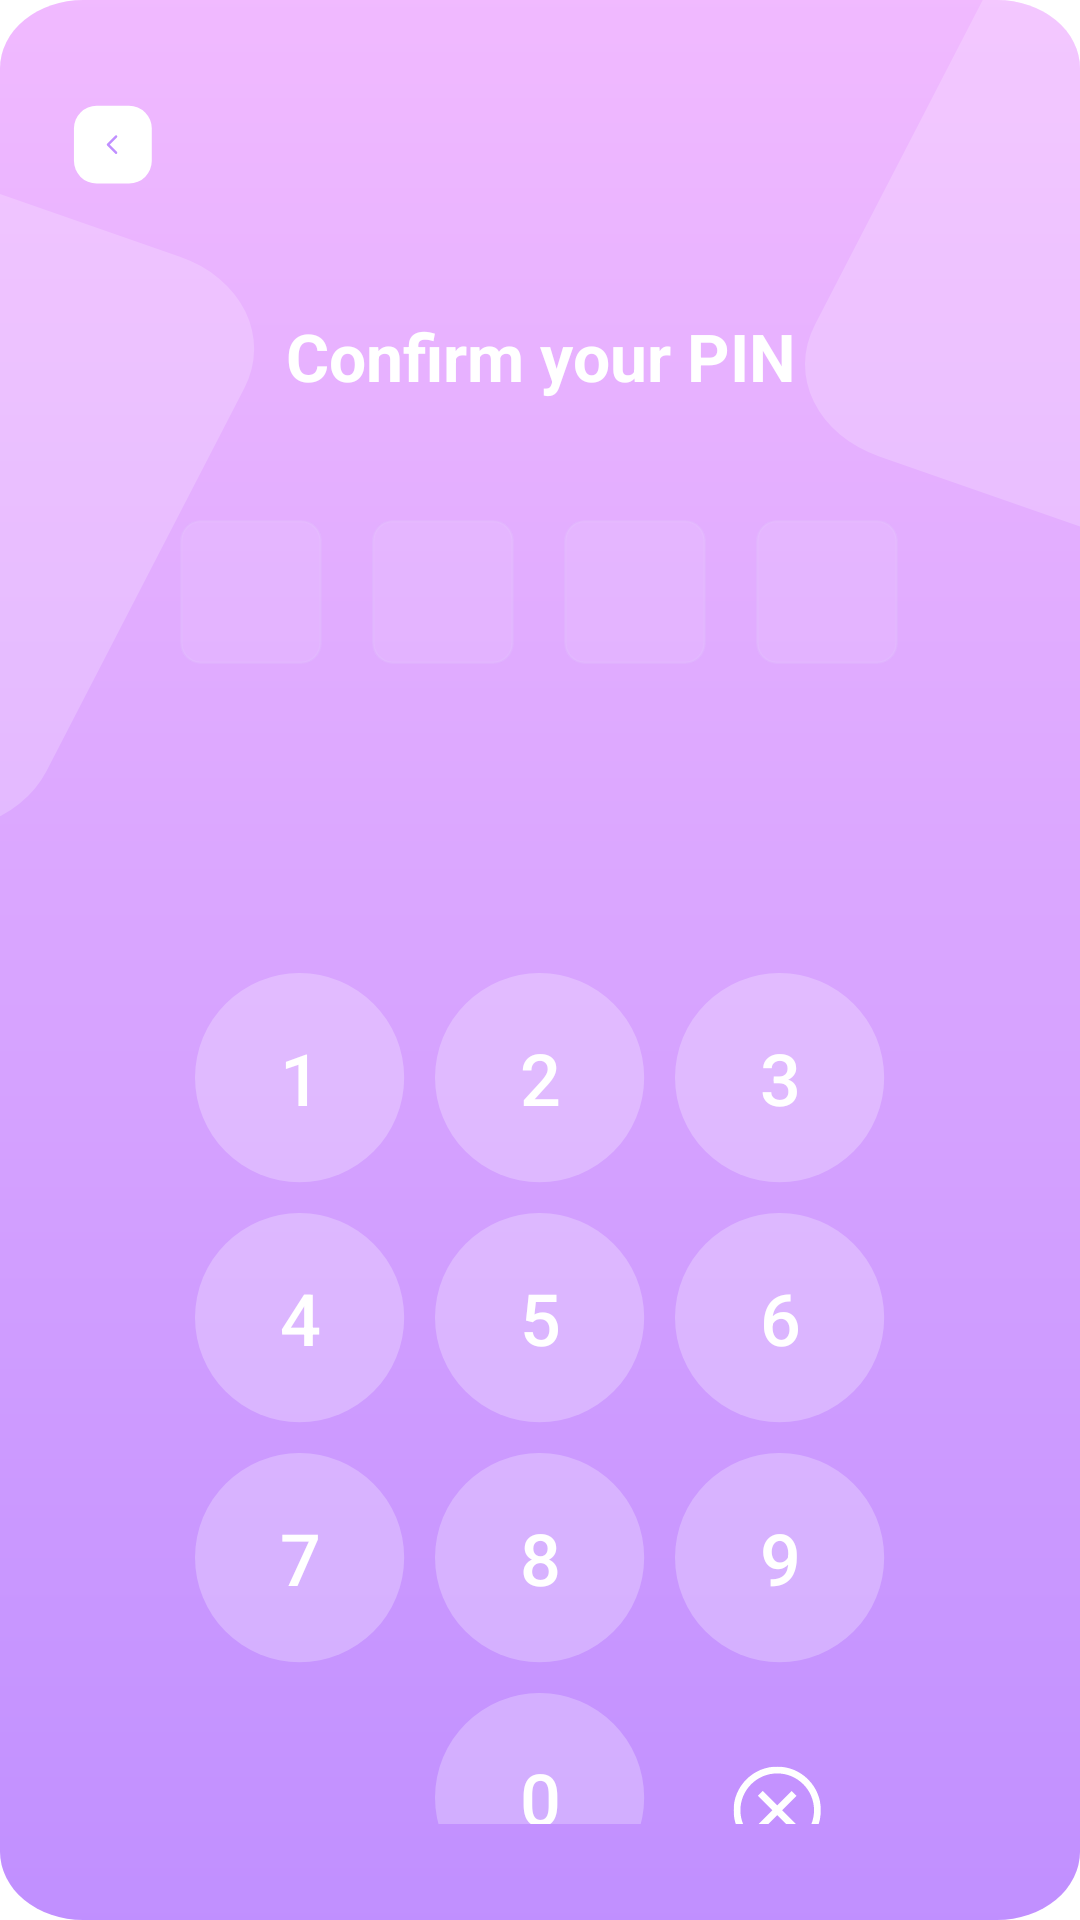

Icon click points for this 1080 x 1920 phone screenshot, format point (x, y):
back arrow: point (113, 145)
